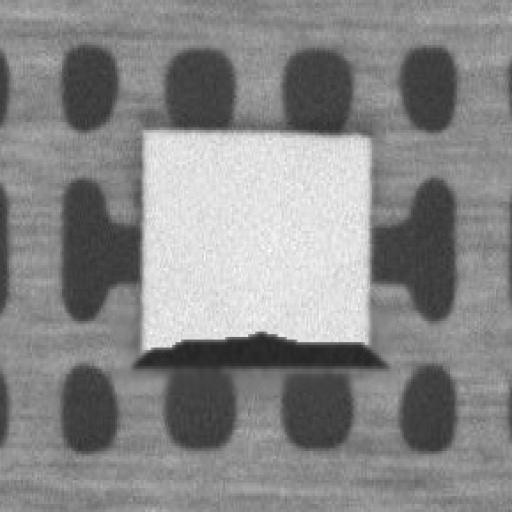DIE_BROKEN: (128, 321, 386, 366)
